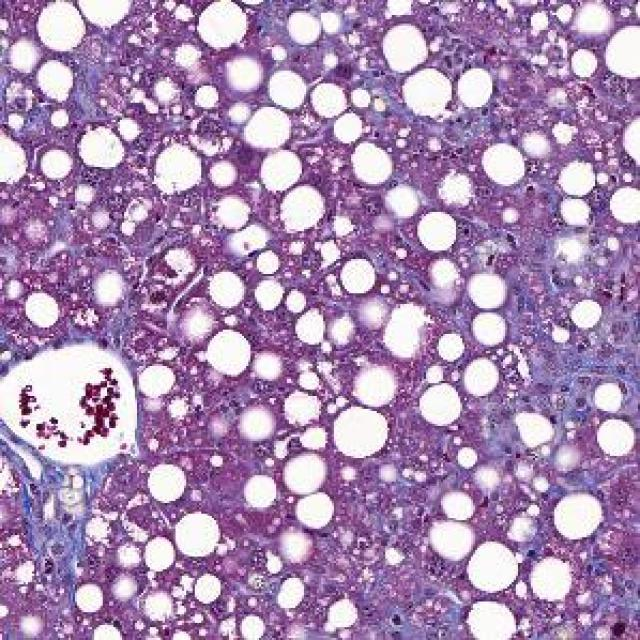fibrosis: (505, 312, 640, 426), (11, 471, 135, 571)
